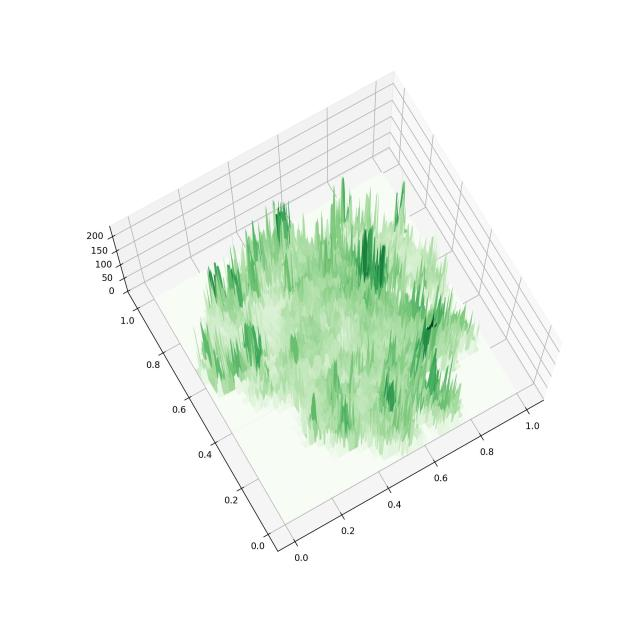fir: (64, 37, 579, 594)
